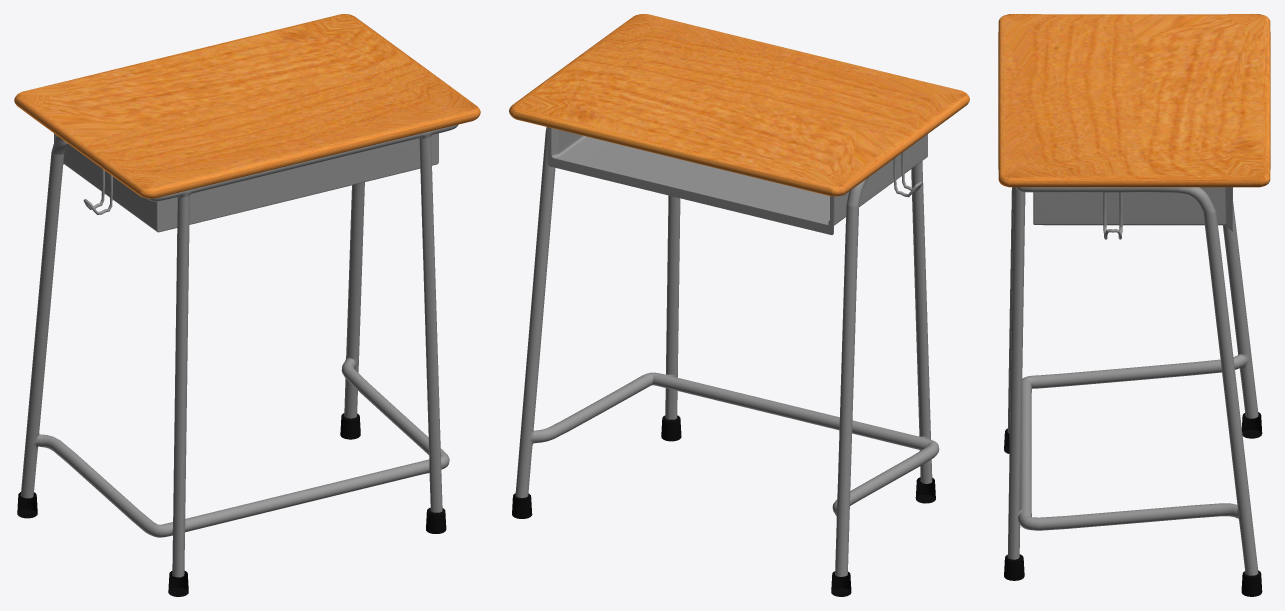
Rendered from SchoolTsukue.obj.
The picture shows the model from 3 angles, left to right: view 1: azimuth 30°, elevation 25°; view 2: azimuth 150°, elevation 25°; view 3: azimuth 270°, elevation 25°; orthographic projection.
Visible parts, largest first — view 1: Ashi pCube4, Ashi Ashi1_nurbsToPoly1, pCube3 Ashi; view 2: Ashi pCube4, Ashi Ashi1_nurbsToPoly1, pCube3 Ashi; view 3: Ashi pCube4, Ashi Ashi1_nurbsToPoly1, pCube3 Ashi, Ashi pCylinder1, Ashi pCylinder2, Ashi pCylinder3, Ashi nurbsToPoly4.
Boxes of the visible parts, x1,y1,x2,y2 form: Ashi pCube4: [14, 14, 480, 198]; Ashi Ashi1_nurbsToPoly1: [20, 124, 458, 577]; pCube3 Ashi: [54, 133, 438, 232]; Ashi pCube4: [509, 14, 969, 196]; Ashi Ashi1_nurbsToPoly1: [515, 127, 939, 576]; pCube3 Ashi: [547, 127, 927, 234]; Ashi pCube4: [998, 14, 1270, 187]; Ashi Ashi1_nurbsToPoly1: [1007, 187, 1258, 575]; pCube3 Ashi: [1033, 187, 1232, 231]; Ashi pCylinder1: [1004, 554, 1024, 580]; Ashi pCylinder2: [1241, 570, 1262, 596]; Ashi pCylinder3: [1241, 412, 1262, 438]; Ashi nurbsToPoly4: [1103, 192, 1122, 239].
Size of the model in its own units: 10.95 by 12.65 by 7.47.
3 materials, 1 textured.
